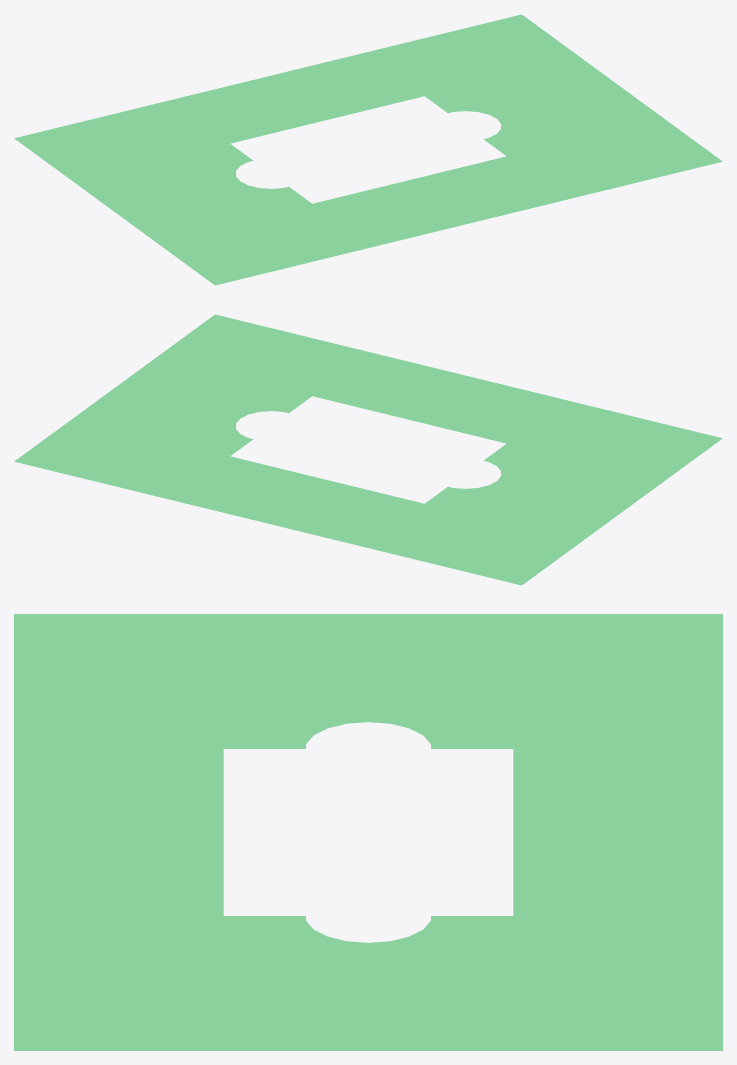
File: 01_PipeGameBackground.FBX
3 renders of one model, top to bottom at view 1: azimuth 30°, elevation 25°; view 2: azimuth 150°, elevation 25°; view 3: azimuth 270°, elevation 25°, orthographic. The views are drawn at different scales.
Visible parts, largest first — view 1: Shape001; view 2: Shape001; view 3: Shape001.
Part boxes in pixels (bbox=[...]): Shape001: bbox=[14, 14, 722, 285]; Shape001: bbox=[14, 314, 722, 585]; Shape001: bbox=[14, 614, 722, 1050].
Bounding box in the file's own units: 418 × 1.78e-14 × 287.
